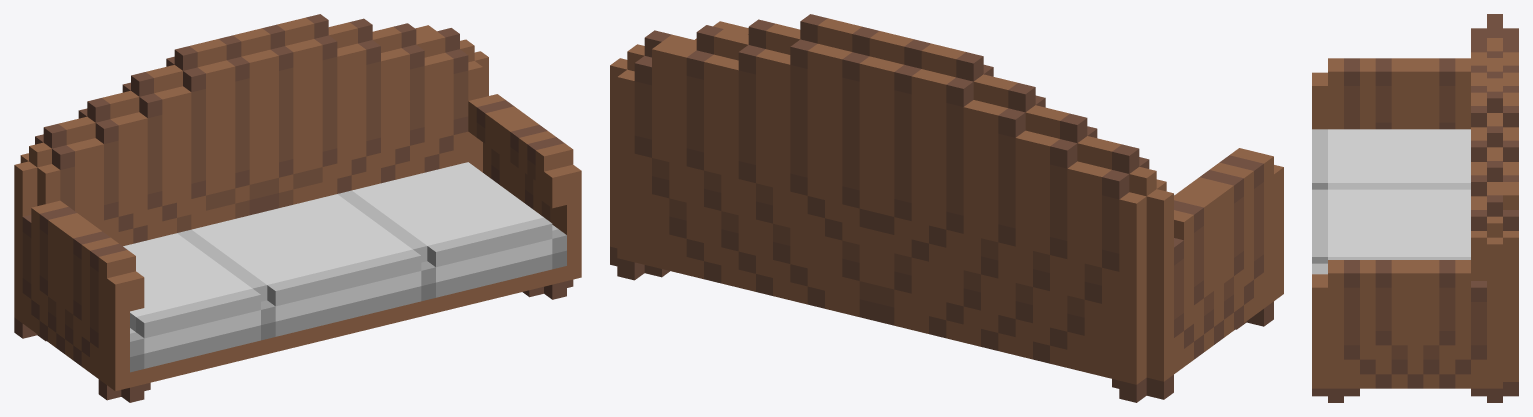
Rendered from Couch_White.glb.
The picture shows the model from 3 angles, left to right: view 1: azimuth 30°, elevation 25°; view 2: azimuth 150°, elevation 25°; view 3: azimuth 270°, elevation 25°; orthographic projection. The views are drawn at different scales.
Parts seen in each view (by area): view 1: Untitled; view 2: Untitled; view 3: Untitled.
Boxes of the visible parts, left/top/right/bottom form: Untitled: left=14, top=14, right=581, bottom=402; Untitled: left=610, top=14, right=1283, bottom=402; Untitled: left=1312, top=14, right=1518, bottom=402.
Size of the model in its own units: 3.2 by 1.6 by 1.3.
Materials: 1 (1 with a texture image).
